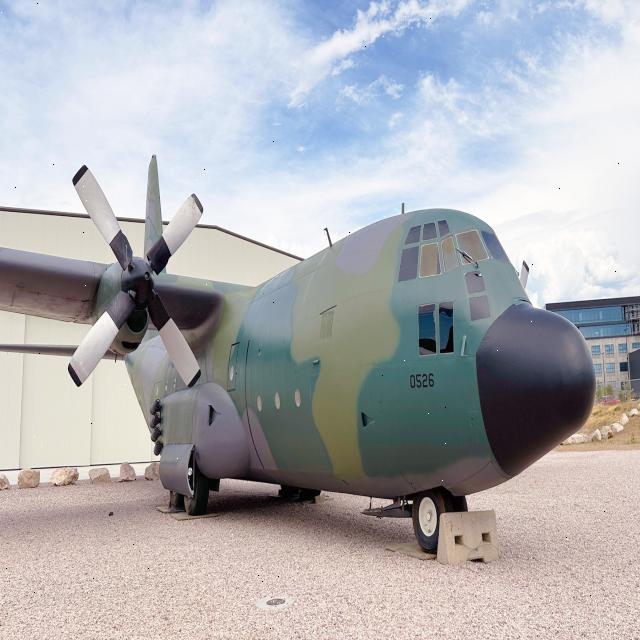C130: (21, 100, 605, 598)
